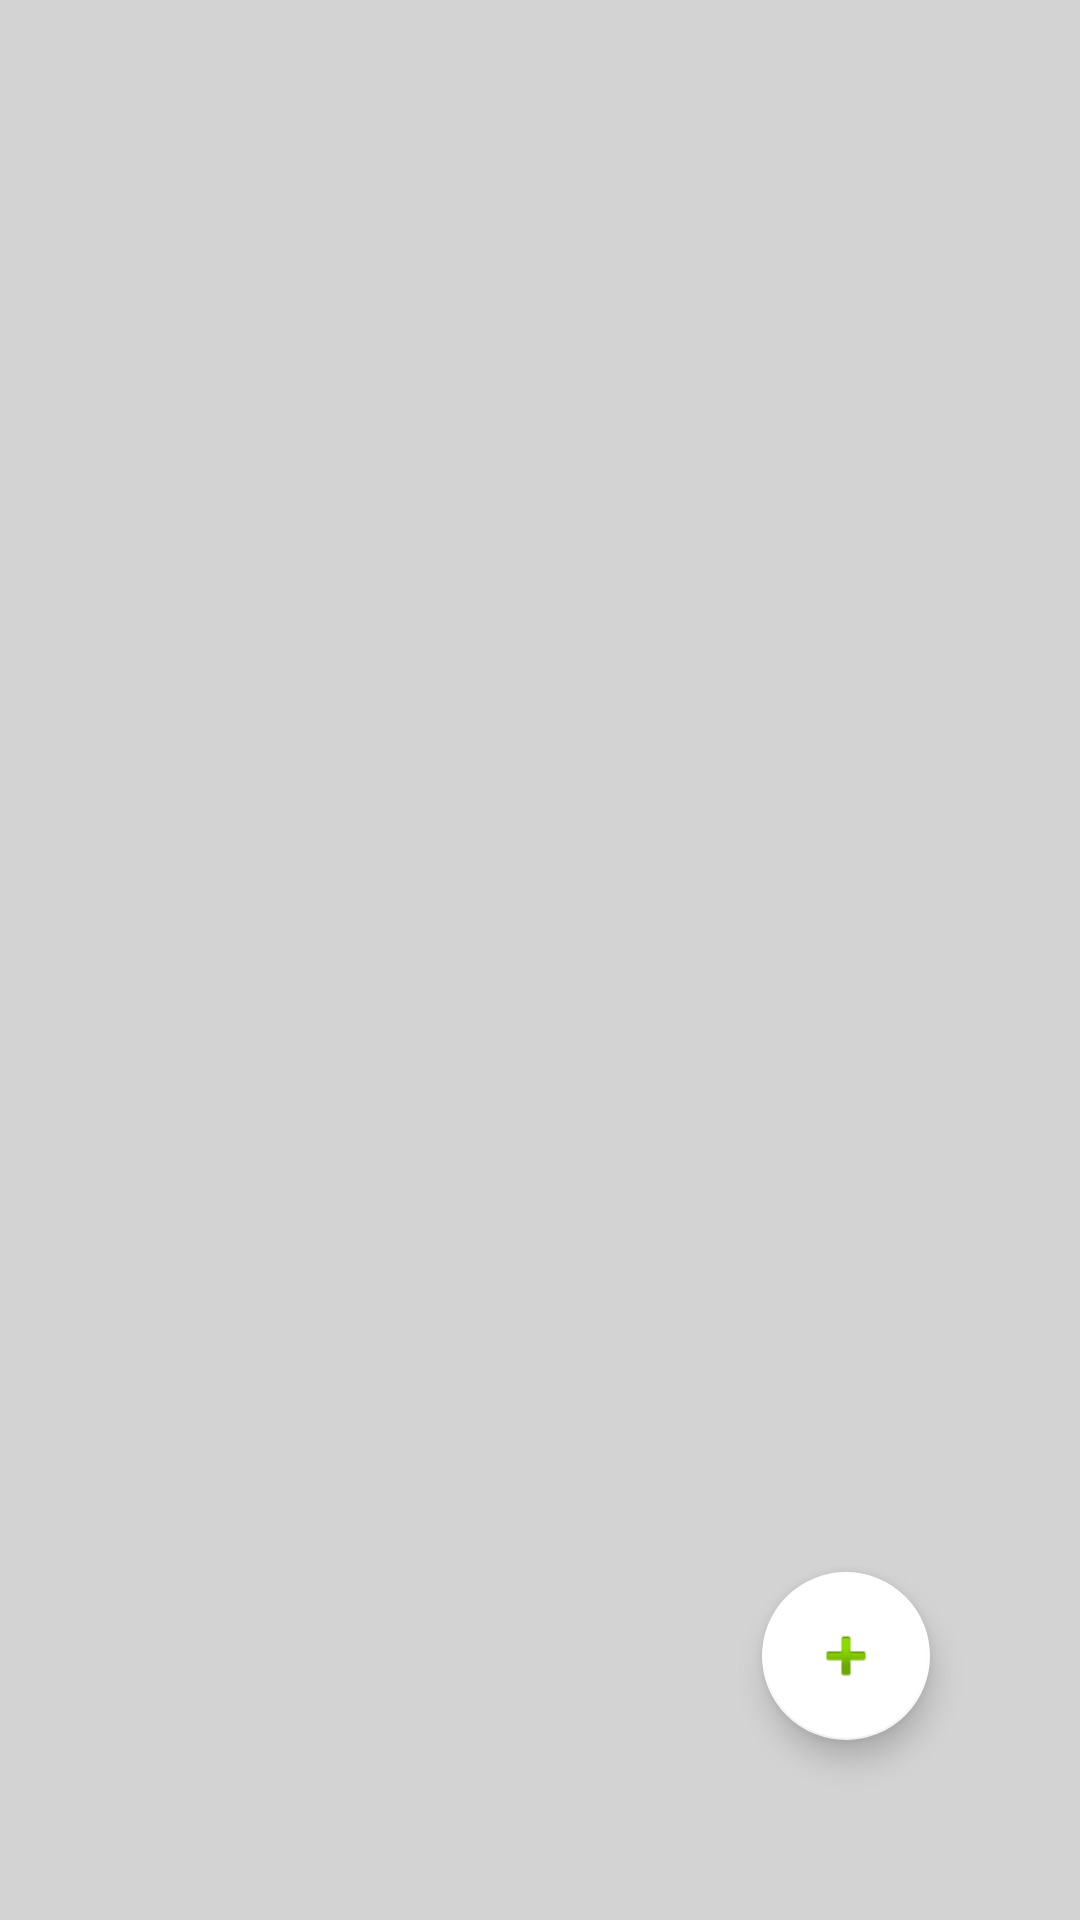

Named icons in this screenshot (1080 × 1920) and their bounding boxes, [x1,y1,x2,y2]:
add: [762,1572,930,1740]
